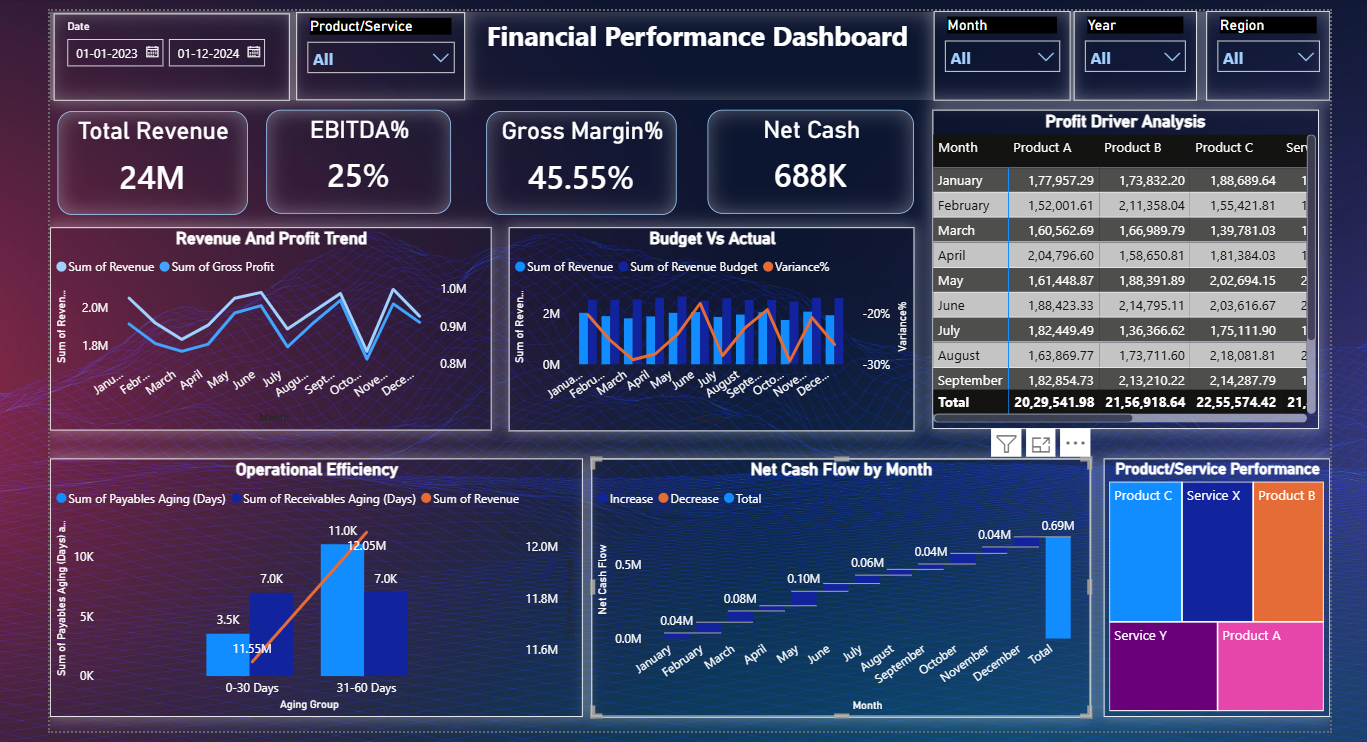

This screenshot's page, from the dashboard's own definition file:
{"tool":"powerbi","page":{"name":"Page 1","canvas":[1280,720],"ordinal":0},"visuals":[{"type":"textbox","box":[415,1.2,451.2,88.8],"z":0},{"type":"lineChart","title":"Revenue And Profit Trend","fields":{"Y":["Sum(Data.Revenue)"],"Y2":["Sum(Data.Gross Profit)"],"Category":["Data.Month.Variation.Date Hierarchy.Month"]},"box":[0,216.4,441.4,203],"z":1000},{"type":"slicer","fields":{"Values":["Data.Region"]},"box":[1155.6,0,124.4,89.6],"z":2000},{"type":"treemap","title":" Product/Service Performance","fields":{"Values":["Sum(Data.Revenue)"],"Group":["Data.Product/Service"]},"box":[1011.2,447.5,268.8,258.8],"z":3000},{"type":"lineClusteredColumnComboChart","title":"Operational Efficiency","fields":{"Category":["Data.Payables Group"],"Y2":["Sum(Data.Revenue)"],"Y":["Sum(Data.Payables Aging (Days))","Sum(Data.Receivables Aging (Days))"]},"box":[0,447.5,502.5,258.8],"z":4000},{"type":"slicer","fields":{"Values":["Data.Month"]},"box":[3.7,2.5,236.4,87.1],"z":5000},{"type":"slicer","fields":{"Values":["Data.Product/Service"]},"box":[246.3,1.2,169.2,88.3],"z":6000},{"type":"slicer","fields":{"Values":["Data.Month.Variation.Date Hierarchy.Year"]},"box":[1023.8,0,123.2,89.6],"z":7000},{"type":"slicer","fields":{"Values":["Data.Month.Variation.Date Hierarchy.Month"]},"box":[883.2,0,136.8,89.6],"z":8000},{"type":"cardVisual","title":"Total Revenue","fields":{"Data":["Sum(Data.Revenue)"]},"box":[7.5,100,190,103.8],"z":9000},{"type":"cardVisual","title":"EBITDA%","fields":{"Data":["Data.EBITDA%"]},"box":[216.2,98.8,185,103.8],"z":10000},{"type":"cardVisual","title":"Gross Margin%","fields":{"Data":["Data.Gross Margin%"]},"box":[436.6,100.3,190.8,103.9],"z":11000},{"type":"waterfallChart","title":"Net Cash Flow Data","fields":{"Y":["Data.Net Cash Waterfall"],"Category":["WaterfallTable.Category"]},"box":[521.2,447.5,466.2,258.8],"z":12000},{"type":"lineClusteredColumnComboChart","title":"Budget Vs Actual","fields":{"Y":["Sum(Data.Revenue)","Sum(Data.Revenue Budget)"],"Y2":["Data.Variance%"],"Category":["Data.Month.Variation.Date Hierarchy.Month"]},"box":[458.6,216.4,406,204.2],"z":13000},{"type":"pivotTable","title":"Profit Driver Analysis","fields":{"Rows":["Data.Region","Data.Month.Variation.Date Hierarchy.Month"],"Columns":["Data.Product/Service"],"Values":["Sum(Data.Gross Profit)"]},"box":[882.5,98.8,397.5,320],"z":14000},{"type":"cardVisual","title":"Net Cash","fields":{"Data":["Data.Net Cash"]},"box":[661.9,99.6,203.3,103.8],"z":15000}]}

Visuals, with their boxes on the page's 1280x720 design canvas (x1, y1, x2, y2). These are canvas units, not pixel positions in the 1367x742 screenshot, which may show the page scaled, cropped or inside an application window:
textbox: region(415, 1, 866, 90)
"Revenue And Profit Trend" lineChart: region(0, 216, 441, 419)
slicer - Data.Region: region(1156, 0, 1280, 90)
" Product/Service Performance" treemap: region(1011, 448, 1280, 706)
"Operational Efficiency" lineClusteredColumnComboChart: region(0, 448, 502, 706)
slicer - Data.Month: region(4, 2, 240, 90)
slicer - Data.Product/Service: region(246, 1, 416, 90)
slicer - Data.Month.Variation.Date Hierarchy.Year: region(1024, 0, 1147, 90)
slicer - Data.Month.Variation.Date Hierarchy.Month: region(883, 0, 1020, 90)
"Total Revenue" cardVisual: region(8, 100, 198, 204)
"EBITDA%" cardVisual: region(216, 99, 401, 203)
"Gross Margin%" cardVisual: region(437, 100, 627, 204)
"Net Cash Flow Data" waterfallChart: region(521, 448, 987, 706)
"Budget Vs Actual" lineClusteredColumnComboChart: region(459, 216, 865, 421)
"Profit Driver Analysis" pivotTable: region(882, 99, 1280, 419)
"Net Cash" cardVisual: region(662, 100, 865, 203)
